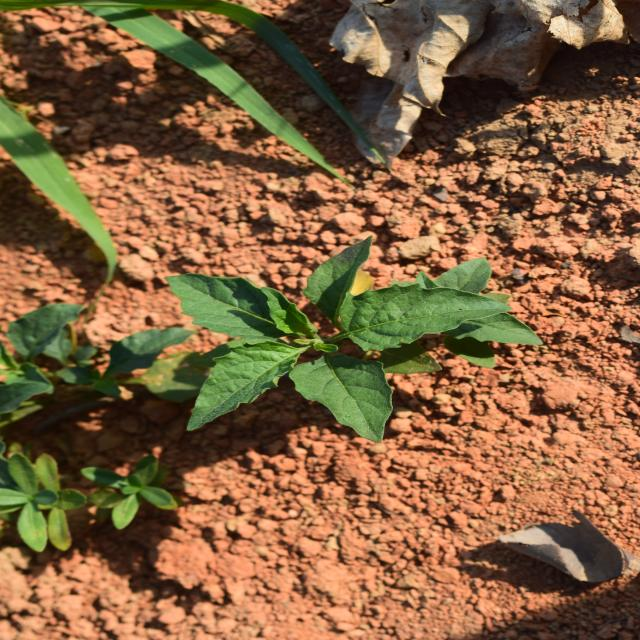Black_nightshade: (204, 165, 413, 514)
